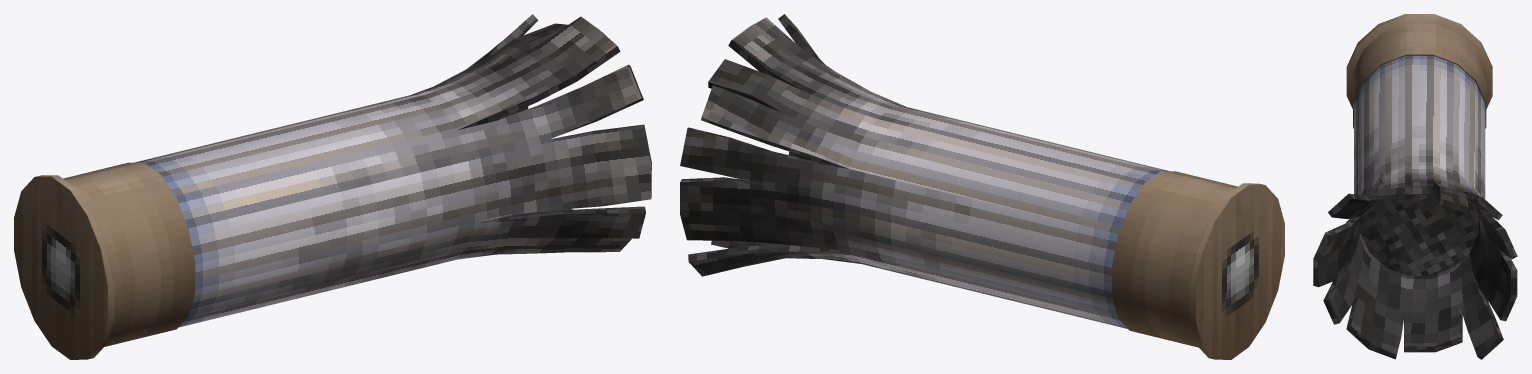
Rendered from ammomaker_HullFiredShotgunL.fbx.
3 views of the same model, side by side, from view 1: azimuth 30°, elevation 25°; view 2: azimuth 150°, elevation 25°; view 3: azimuth 270°, elevation 25° (orthographic). The views are drawn at different scales.
Parts seen in each view (by area): view 1: ammomaker_HullFiredShotgunL; view 2: ammomaker_HullFiredShotgunL; view 3: ammomaker_HullFiredShotgunL.
Part boxes in pixels (x1,y1,x2,y2): ammomaker_HullFiredShotgunL: (14,14,651,359); ammomaker_HullFiredShotgunL: (680,14,1284,359); ammomaker_HullFiredShotgunL: (1313,14,1517,359).
Bounding box in the file's own units: 9.26 × 3.71 × 3.97.
